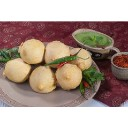bonda: (29, 65, 55, 92), (55, 65, 83, 90), (5, 58, 29, 82), (48, 39, 70, 65), (21, 41, 44, 64)
